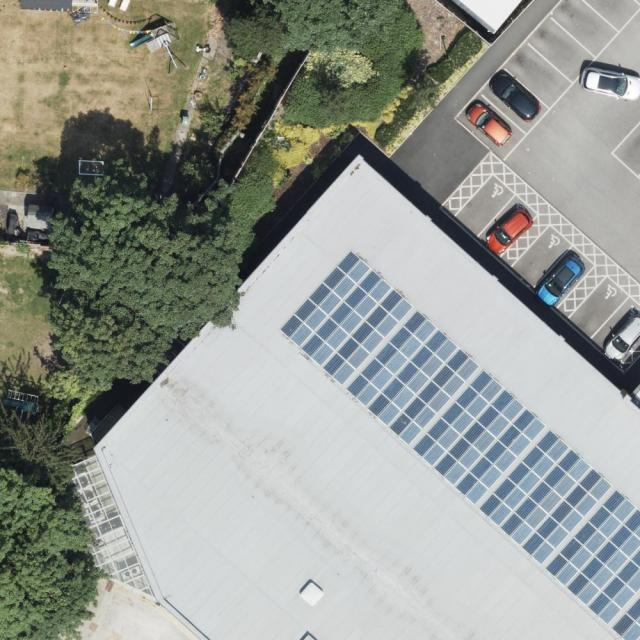roof: (53, 152, 640, 640), (451, 0, 523, 34)
skylight: (66, 457, 157, 601)
solar: (274, 247, 414, 383), (343, 310, 477, 446), (478, 431, 612, 563), (416, 370, 546, 502), (544, 492, 640, 622), (615, 599, 640, 640)
